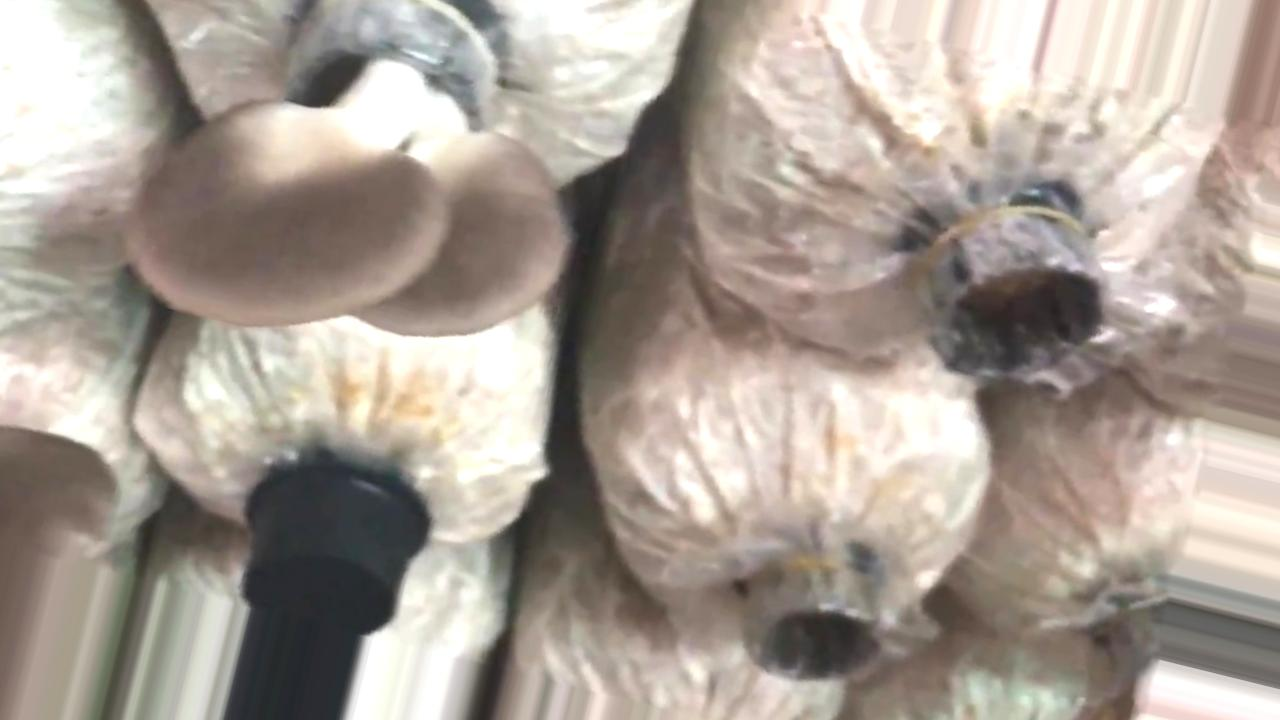nam: (142, 1, 552, 339)
